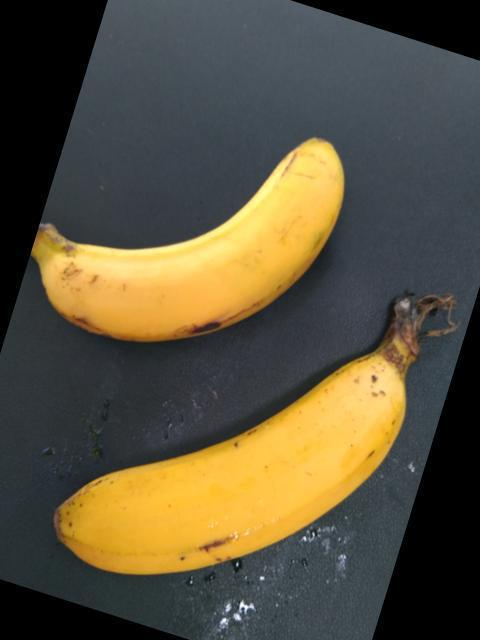freshripe: (46, 332, 438, 586), (6, 128, 372, 345)
